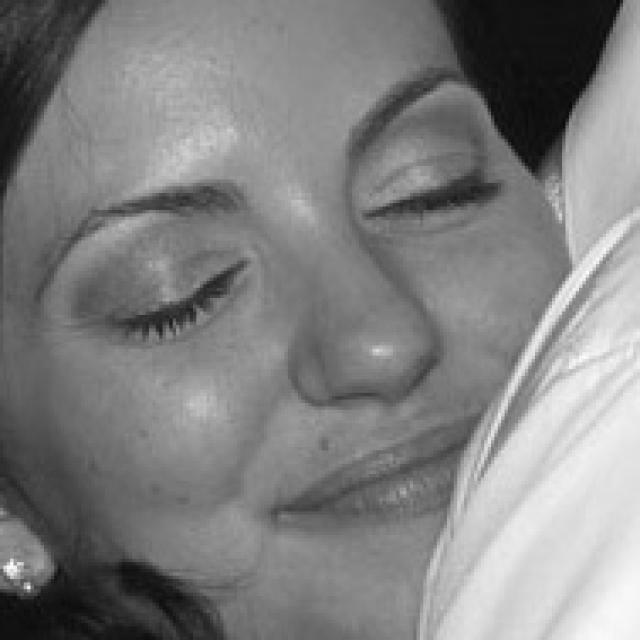real: (18, 12, 570, 622), (87, 108, 519, 346)
